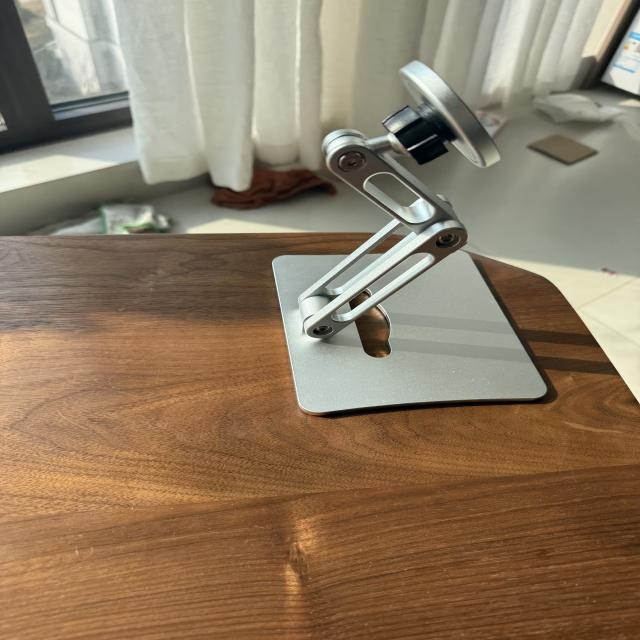phone holder: (257, 47, 563, 432)
